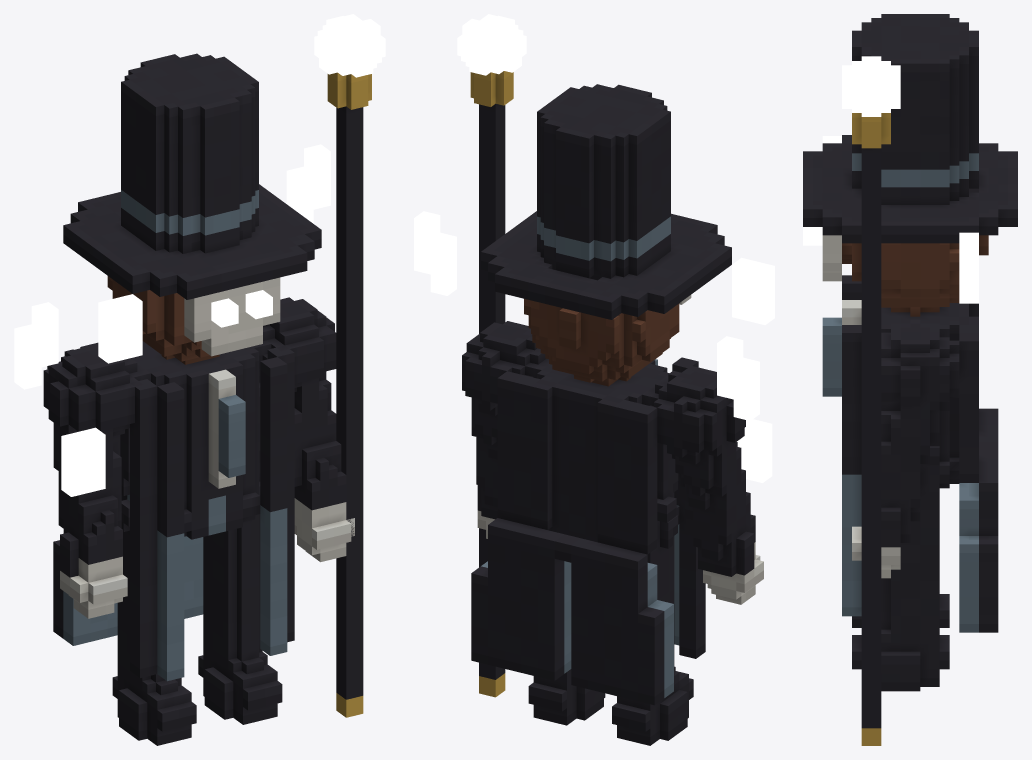
The model's file is u_receleur__tidiane.glb.
3 renders of one model, left to right at view 1: azimuth 30°, elevation 25°; view 2: azimuth 150°, elevation 25°; view 3: azimuth 270°, elevation 25°, orthographic. The views are drawn at different scales.
Parts seen in each view (by area): view 1: receleur_body, receleur_weapon, receleur_glow, receleur_weaponglow; view 2: receleur_body, receleur_glow, receleur_weapon, receleur_weaponglow; view 3: receleur_body, receleur_weapon, receleur_weaponglow, receleur_glow.
Boxes of the visible parts, <box> form: receleur_body: <box>43,53,354,745</box>; receleur_weapon: <box>327,72,371,717</box>; receleur_glow: <box>14,144,330,496</box>; receleur_weaponglow: <box>314,14,385,77</box>; receleur_body: <box>462,84,763,745</box>; receleur_glow: <box>414,211,774,482</box>; receleur_weapon: <box>470,71,513,697</box>; receleur_weaponglow: <box>457,14,526,75</box>; receleur_body: <box>803,14,1017,691</box>; receleur_weapon: <box>852,113,890,745</box>; receleur_weaponglow: <box>842,56,900,116</box>; receleur_glow: <box>803,136,978,303</box>.
Size of the model in its own units: 0.95 by 1.93 by 0.55.
